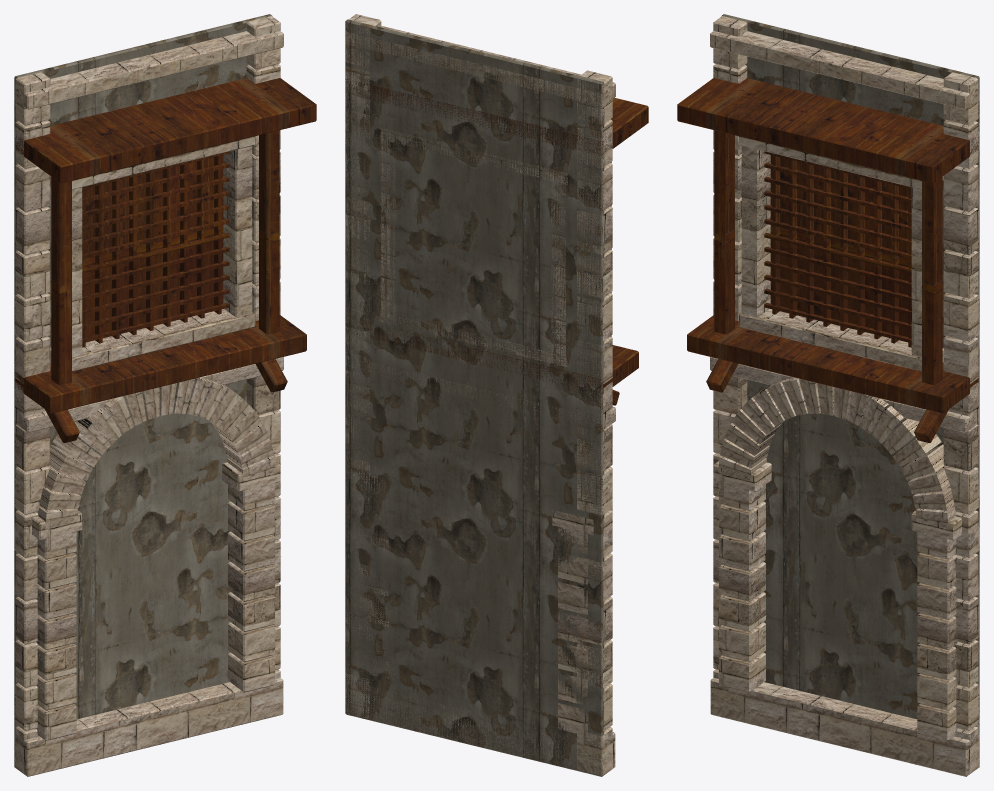
Rendered from fountain-east-north.glb.
The picture shows the model from 3 angles, left to right: view 1: azimuth 30°, elevation 25°; view 2: azimuth 150°, elevation 25°; view 3: azimuth 330°, elevation 25°; orthographic projection.
Parts seen in each view (by area): view 1: Weathered merchant lime wall; view 2: Weathered merchant lime wall; view 3: Weathered merchant lime wall.
Part boxes in pixels (bbox=[...]): Weathered merchant lime wall: bbox=[14, 14, 316, 776]; Weathered merchant lime wall: bbox=[345, 14, 648, 776]; Weathered merchant lime wall: bbox=[677, 14, 979, 776].
Size of the model in its own units: 2.72 by 7 by 0.86.
Materials: 3 (3 with a texture image).
